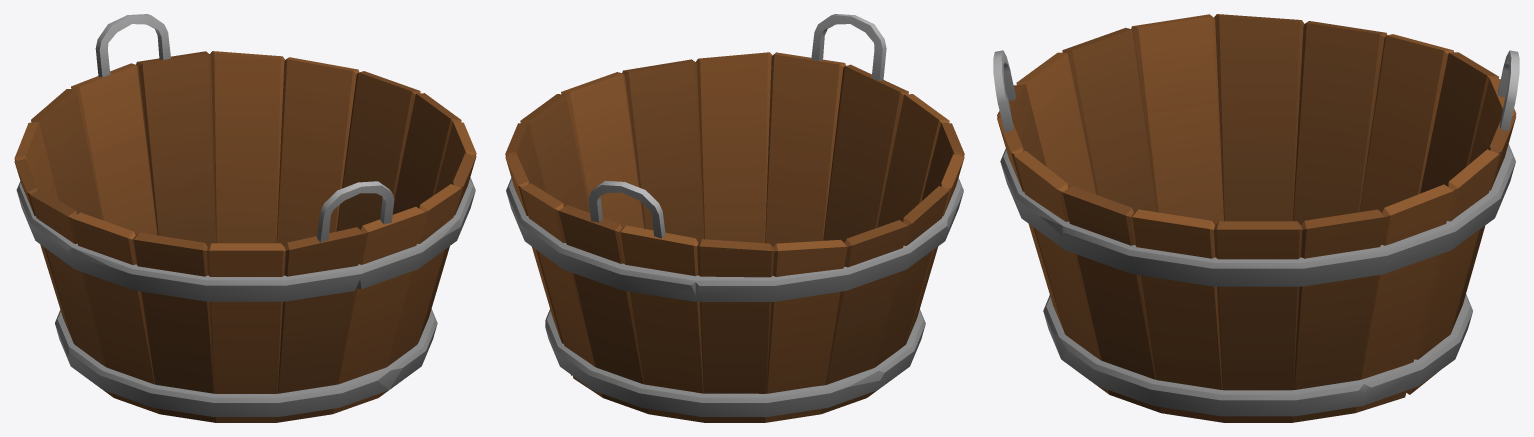
Rendered from Basin_C.glb.
3 views of the same model, side by side, from view 1: azimuth 30°, elevation 25°; view 2: azimuth 150°, elevation 25°; view 3: azimuth 270°, elevation 25° (orthographic). The views are drawn at different scales.
Parts seen in each view (by area): view 1: Basin_C; view 2: Basin_C; view 3: Basin_C.
Part boxes in pixels (bbox=[...]): Basin_C: bbox=[14, 14, 476, 422]; Basin_C: bbox=[505, 14, 964, 422]; Basin_C: bbox=[993, 14, 1519, 422].
Size of the model in its own units: 1.14 by 0.6978 by 1.17.
2 materials, 2 textured.
